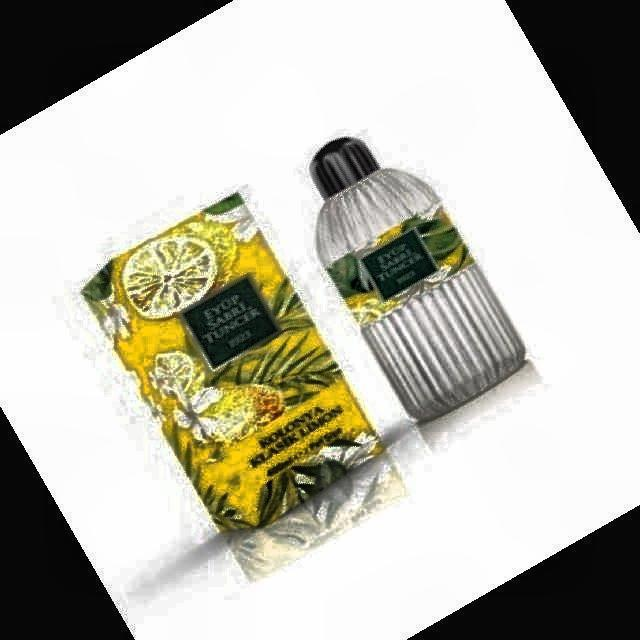cardboard: (82, 194, 382, 529)
plastic: (311, 138, 525, 420)
